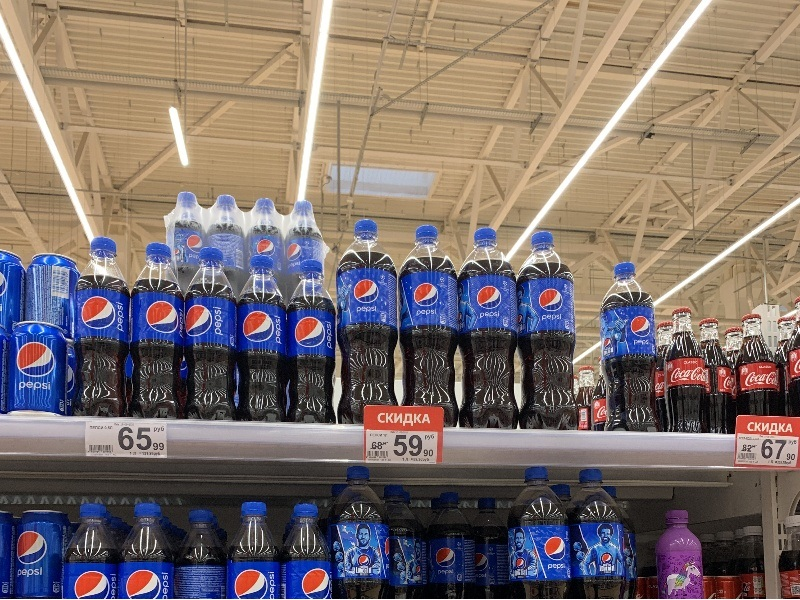lemonade: (331, 218, 405, 429), (513, 229, 584, 435), (456, 225, 526, 433), (397, 224, 466, 432), (176, 247, 248, 424), (67, 233, 132, 422), (597, 262, 663, 441), (126, 241, 189, 427), (231, 252, 297, 429), (279, 257, 344, 431), (662, 306, 716, 442)
